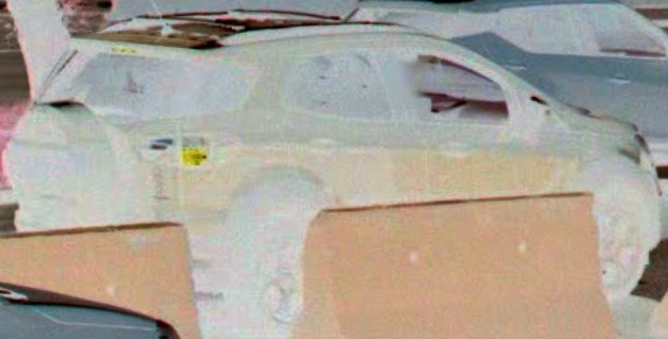car: (7, 7, 650, 205)
